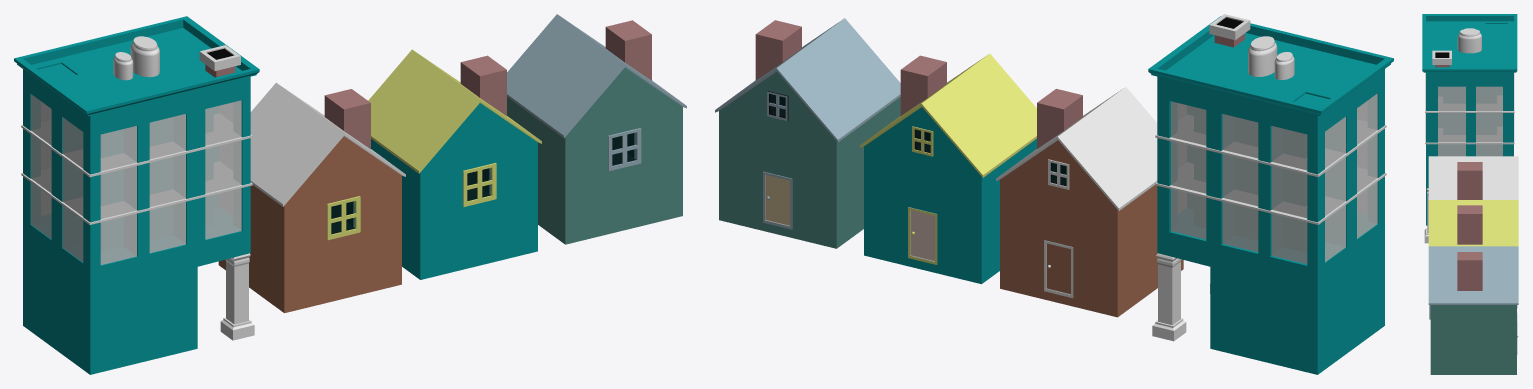
The model's file is citycreator.fbx.
3 views of the same model, side by side, from view 1: azimuth 30°, elevation 25°; view 2: azimuth 150°, elevation 25°; view 3: azimuth 270°, elevation 25° (orthographic). The views are drawn at different scales.
Parts seen in each view (by area): view 1: pCylinder3, House, House2, House1; view 2: pCylinder3, House, House2, House1; view 3: pCylinder3, House, House1, House2.
Part boxes in pixels (box(x1,y1,x2,y2)): pCylinder3: box(14, 16, 259, 374); House: box(507, 14, 686, 244); House2: box(218, 82, 405, 313); House1: box(368, 49, 541, 279); pCylinder3: box(1148, 14, 1393, 374); House: box(715, 18, 900, 248); House2: box(996, 87, 1183, 317); House1: box(860, 53, 1036, 284); pCylinder3: box(1422, 14, 1517, 243); House: box(1428, 246, 1518, 374); House1: box(1428, 200, 1518, 308); House2: box(1428, 156, 1518, 199).
Bounding box in the file's own units: 20.88 × 9.44 × 4.38.
